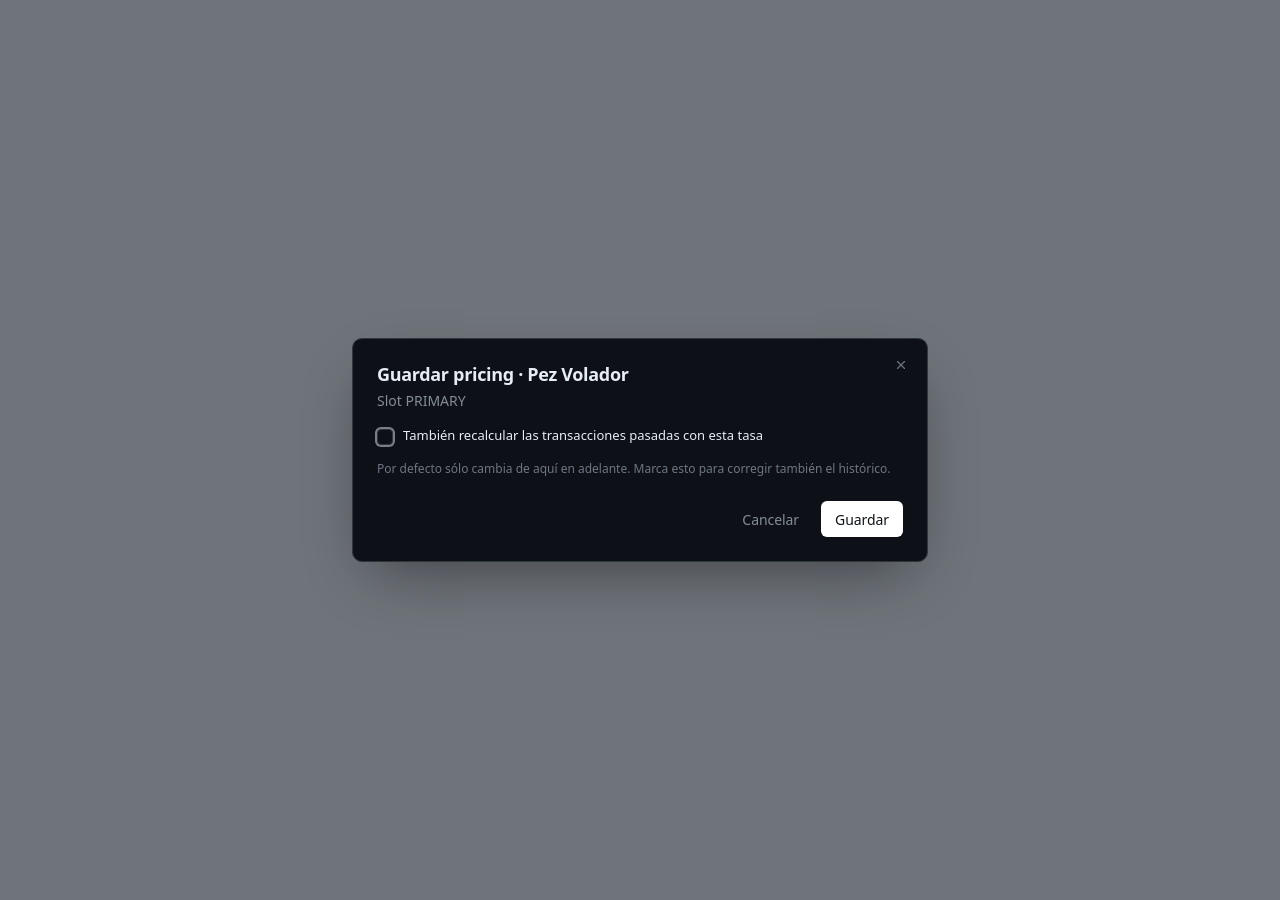
Test: RetroactiveRateDialog › cuando el scope excede 500 pagos: muestra aviso en español y deja el botón deshabilitado aunque se escriba APLICAR
Click the text "También recalcular las transacciones pasadas con esta tasa": click(583, 435) [403,426,763,444]
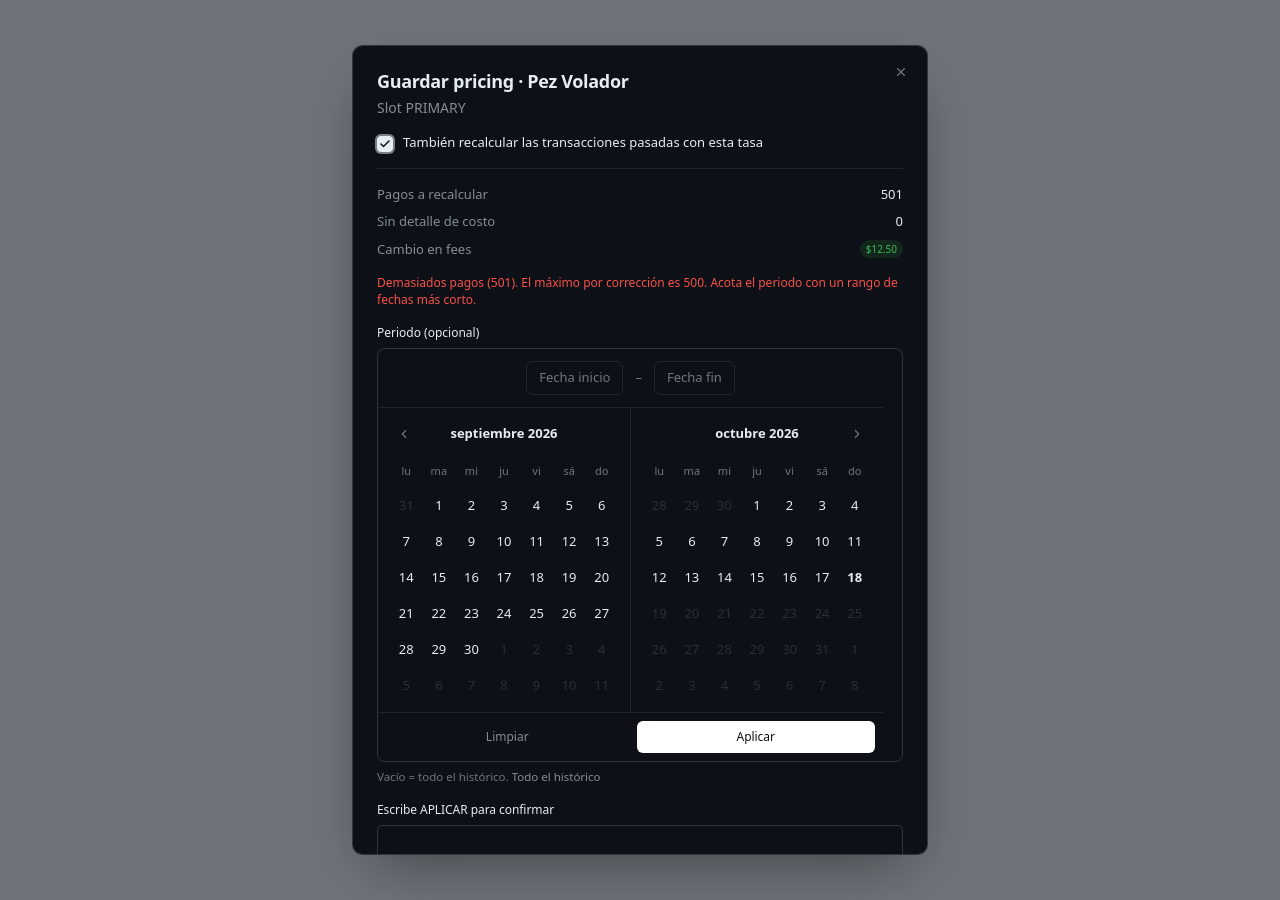
Now the text "Pagos a recalcular" is shown, box [377,184,488,204]
Now the text "Demasiados pagos (501)" is shown, box [377,275,903,308]
Aun escribiendo APLICAR, el botón sigue deshabilitado (gate client-side).
In the field labelled "Escribe APLICAR para confirmar": (640, 845) [377,825,903,865], type "APLICAR"
(page scrolled)
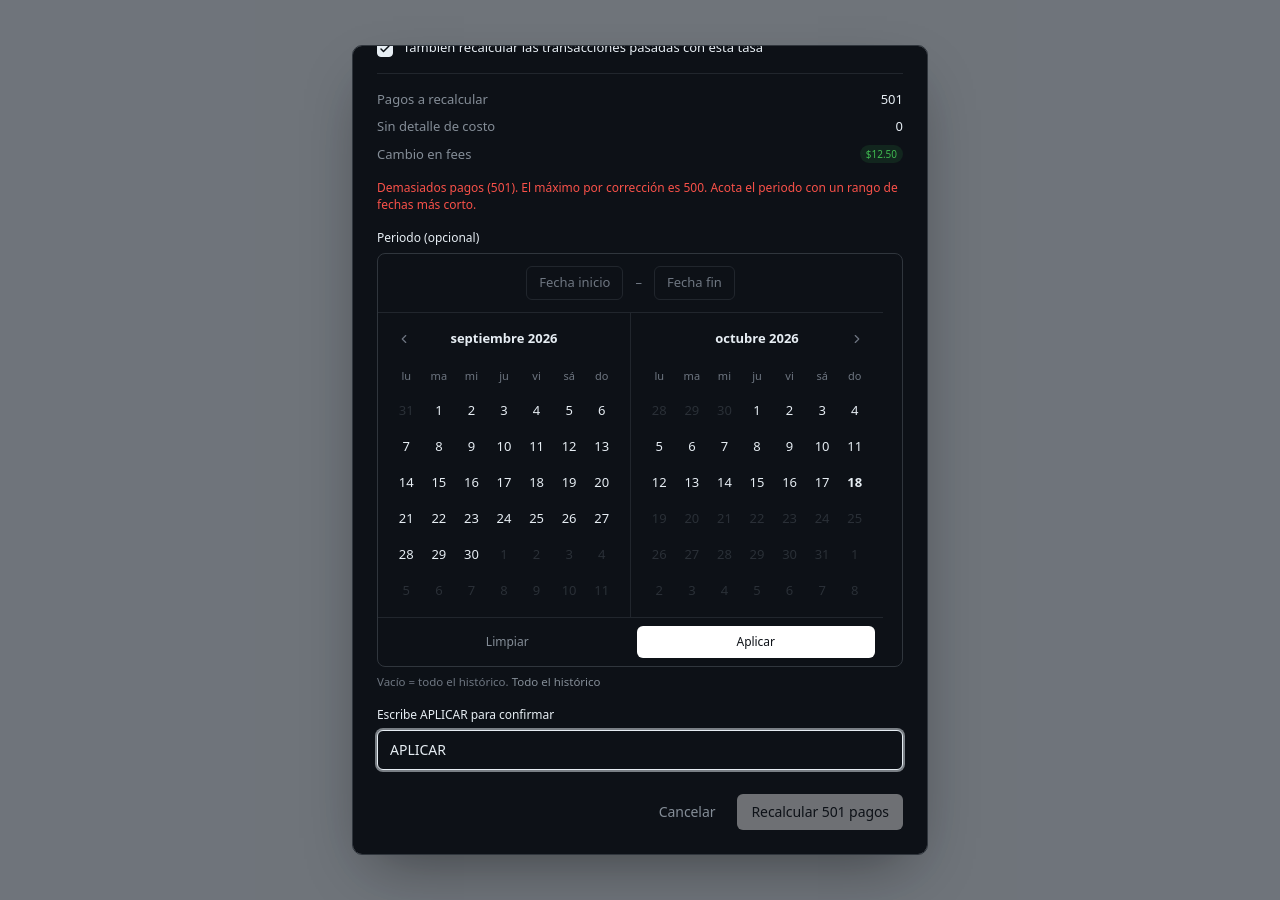
Now the button "Recalcular 501 pagos" is disabled, box [737,794,903,830]
